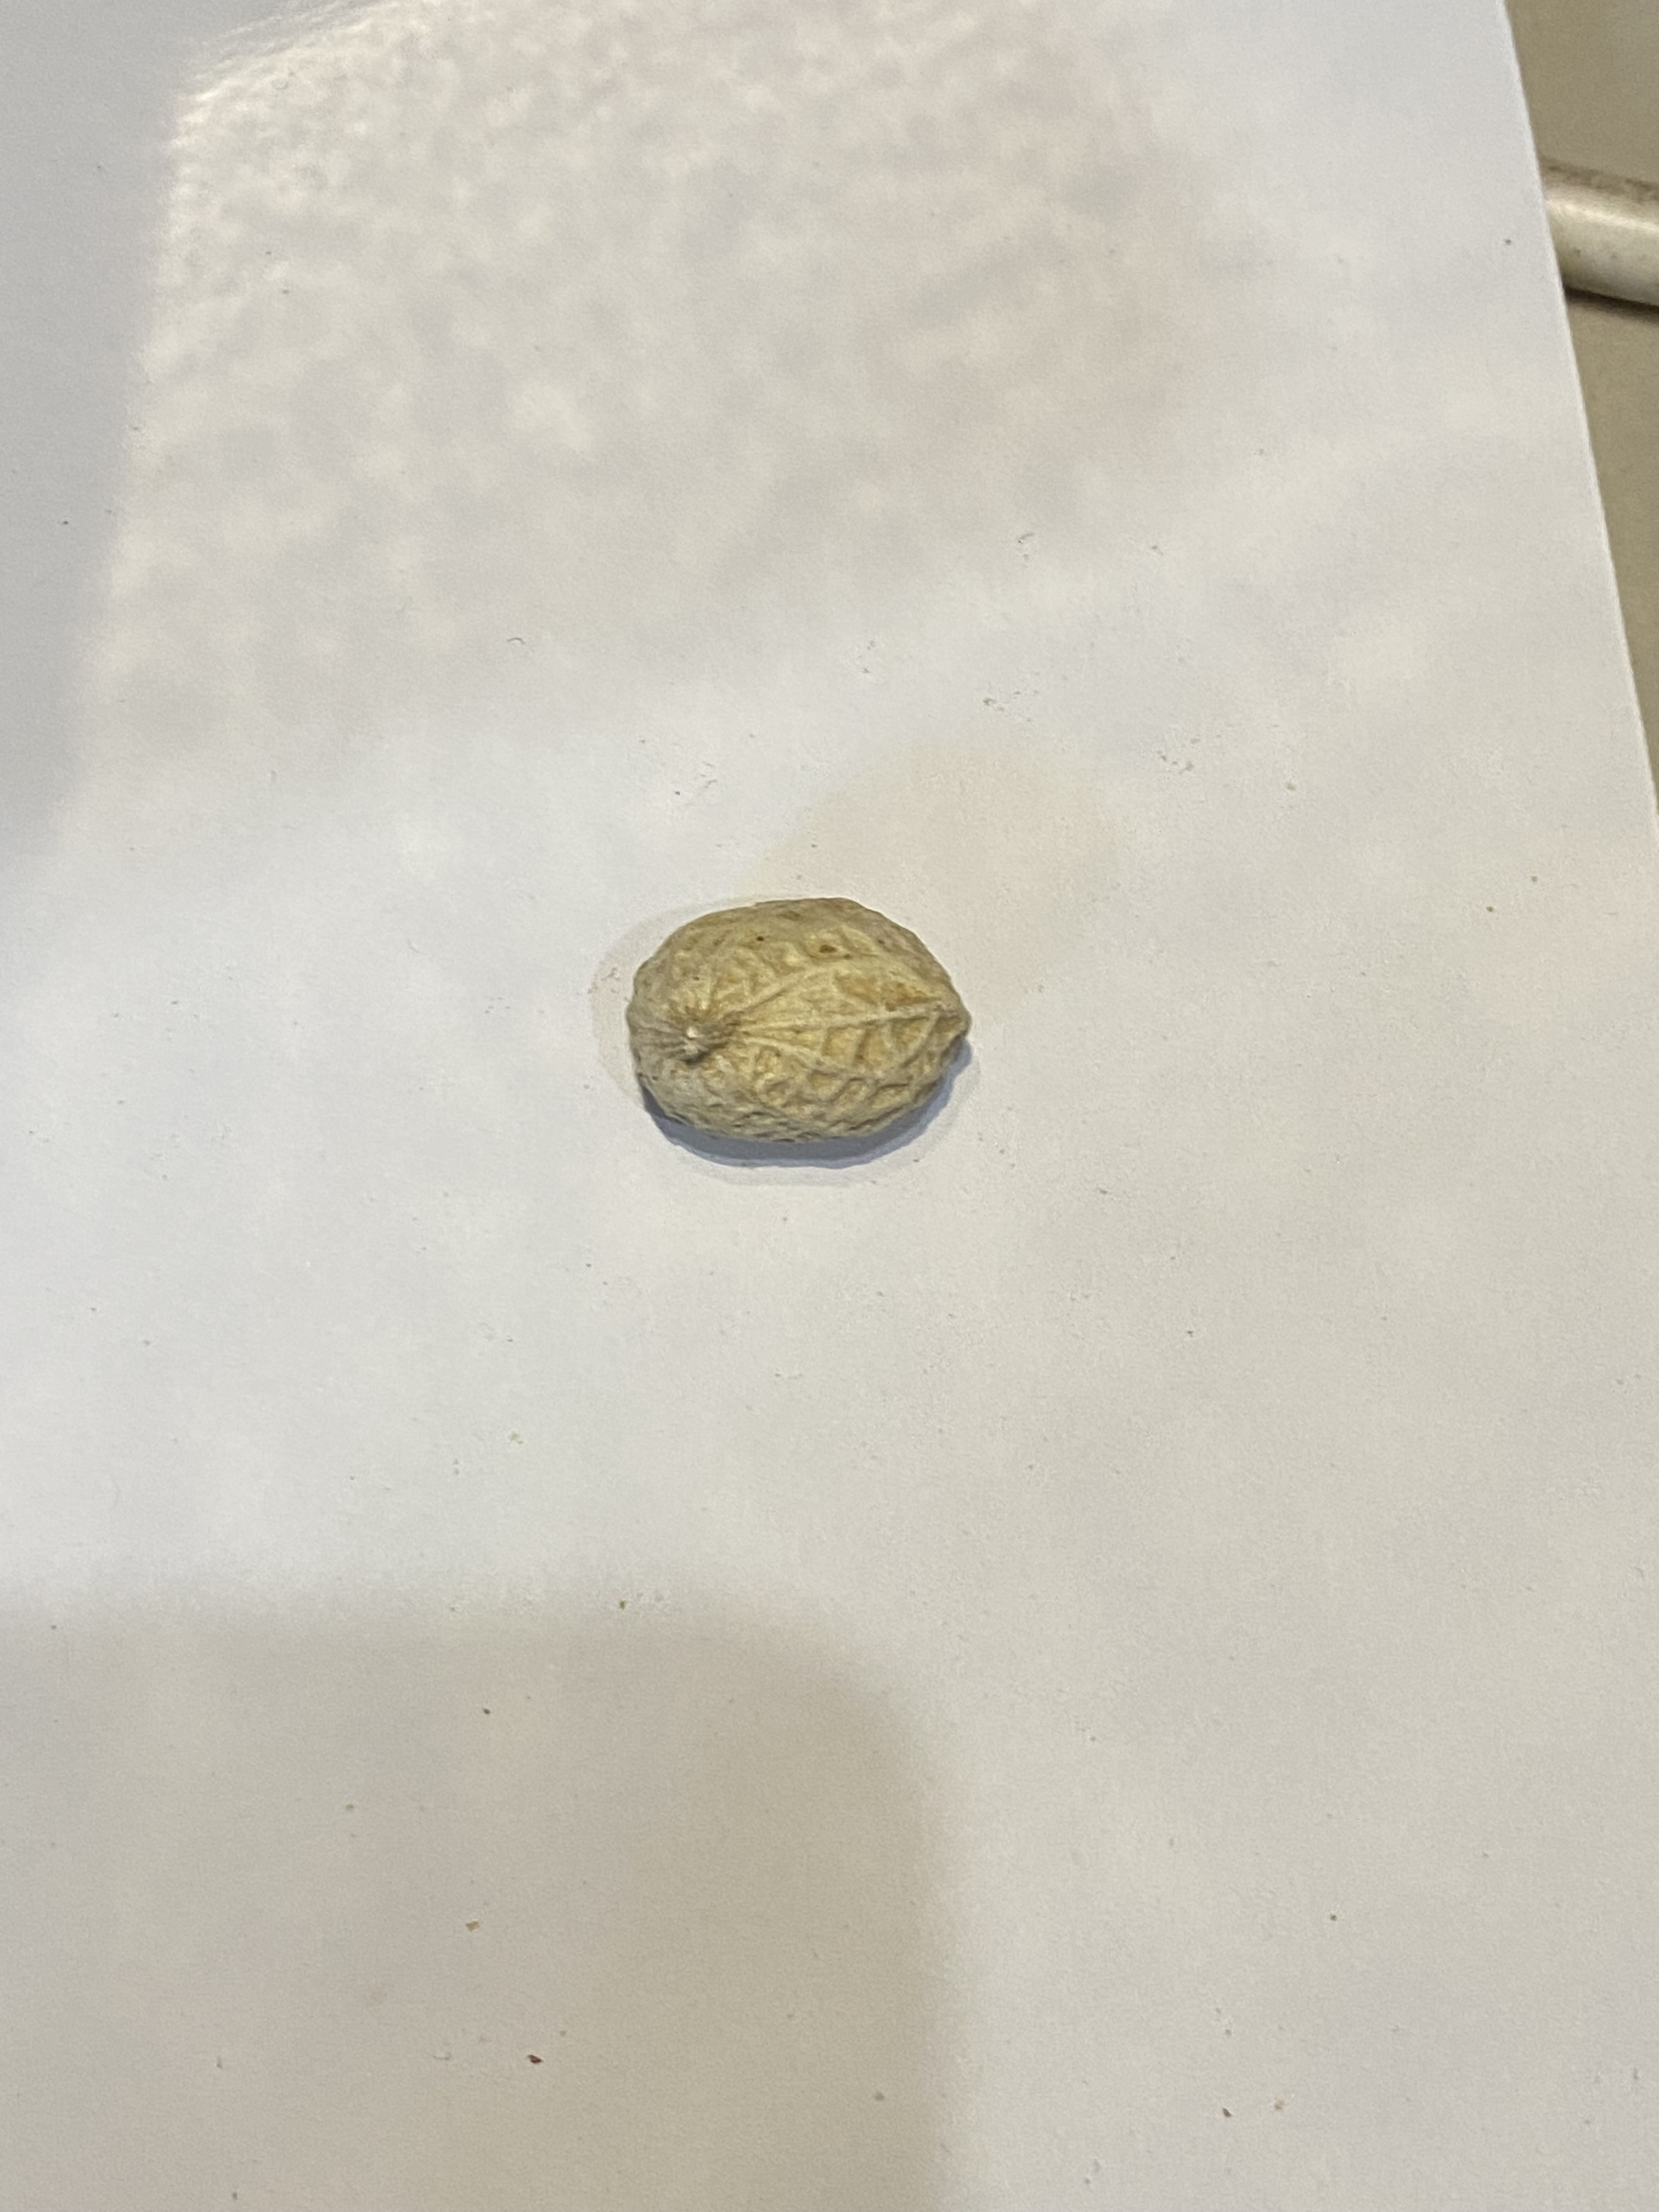kacang1: (612, 890, 988, 1158)
